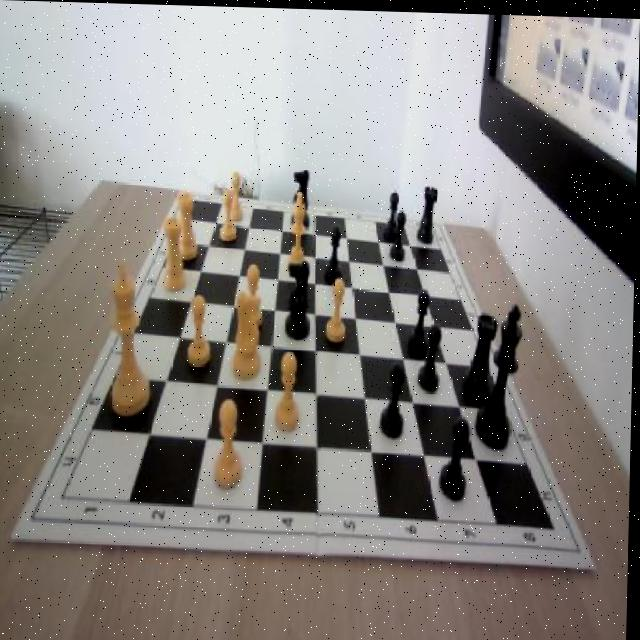black-bishop: (477, 302, 524, 448)
black-king: (288, 259, 314, 340), (290, 162, 313, 227)
black-knight: (441, 413, 471, 498), (382, 358, 409, 436), (418, 321, 443, 390), (409, 285, 432, 353), (326, 223, 345, 281), (385, 186, 402, 242), (391, 208, 407, 261)
black-queen: (466, 308, 499, 397), (419, 184, 439, 241)
black-rook: (285, 188, 312, 286)
white-bishop: (110, 255, 155, 415)
white-king: (227, 279, 268, 382)
white-knight: (213, 398, 247, 488), (274, 350, 307, 435), (186, 292, 215, 369), (240, 263, 266, 331), (328, 274, 350, 340), (227, 173, 246, 222), (221, 188, 239, 239)
white-queen: (163, 214, 192, 289), (175, 189, 199, 262)
